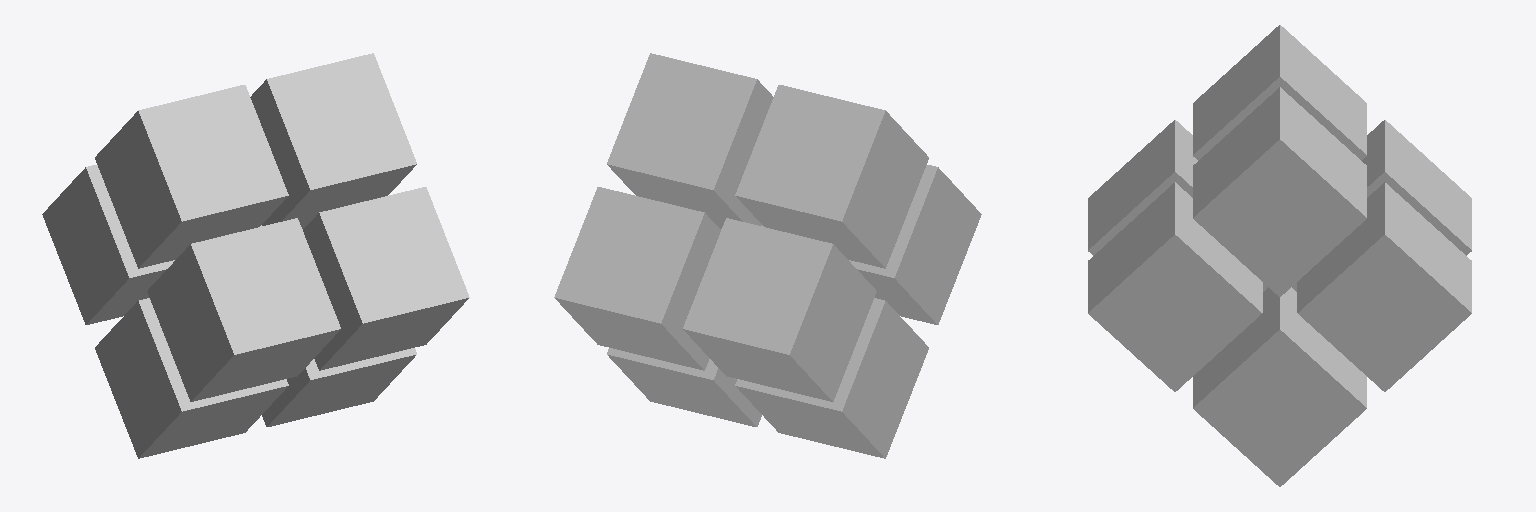
Rendered from CenterCube.obj.
The picture shows the model from 3 angles: view 1: azimuth 30°, elevation 25°; view 2: azimuth 150°, elevation 25°; view 3: azimuth 270°, elevation 25°; orthographic projection.
Parts seen in each view (by area): view 1: Cube.003_Cube.005; view 2: Cube.003_Cube.005; view 3: Cube.003_Cube.005.
Boxes of the visible parts, box(x1,y1,x2,y2) form: Cube.003_Cube.005: box(42, 53, 469, 458); Cube.003_Cube.005: box(554, 53, 981, 458); Cube.003_Cube.005: box(1088, 25, 1471, 486).
Size of the model in its own units: 1.58 by 2.23 by 2.23.